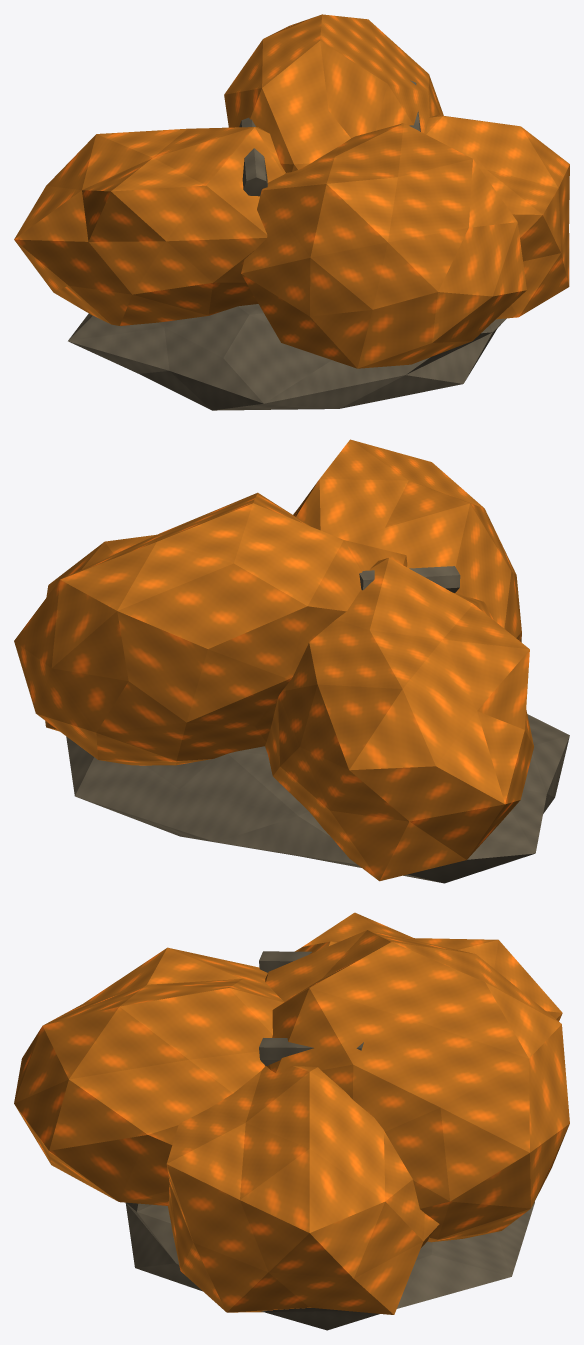
The model's file is underworld-resource-carrion-amber.glb.
The picture shows the model from 3 angles, top to bottom: view 1: azimuth 30°, elevation 25°; view 2: azimuth 150°, elevation 25°; view 3: azimuth 270°, elevation 25°; orthographic projection. The views are drawn at different scales.
Parts seen in each view (by area): view 1: resin-nodule-2, resin-nodule-1, weathered-crust, resin-nodule-3, resin-nodule-0, buried-remnant-0; view 2: resin-nodule-3, resin-nodule-1, weathered-crust, resin-nodule-2, resin-nodule-0, buried-remnant-0; view 3: resin-nodule-3, resin-nodule-0, resin-nodule-2, weathered-crust, resin-nodule-1, buried-remnant-2, buried-remnant-0.
Part boxes in pixels (<box>): resin-nodule-2: <box>241,123,526,368</box>; resin-nodule-1: <box>14,127,285,325</box>; weathered-crust: <box>68,304,506,410</box>; resin-nodule-3: <box>224,14,443,172</box>; resin-nodule-0: <box>426,115,569,319</box>; buried-remnant-0: <box>239,117,267,196</box>; resin-nodule-3: <box>14,492,407,765</box>; resin-nodule-1: <box>265,558,533,881</box>; weathered-crust: <box>66,714,569,883</box>; resin-nodule-2: <box>293,439,521,642</box>; resin-nodule-0: <box>45,534,156,731</box>; buried-remnant-0: <box>359,566,460,592</box>; resin-nodule-3: <box>265,930,569,1242</box>; resin-nodule-0: <box>166,1066,439,1314</box>; resin-nodule-2: <box>14,947,284,1205</box>; weathered-crust: <box>125,1202,534,1330</box>; resin-nodule-1: <box>295,912,562,1021</box>; buried-remnant-2: <box>259,1038,363,1065</box>; buried-remnant-0: <box>259,951,311,972</box>.
Size of the model in its own units: 0.2158 by 0.124 by 0.1902.
Materials: 2 (2 with a texture image).
